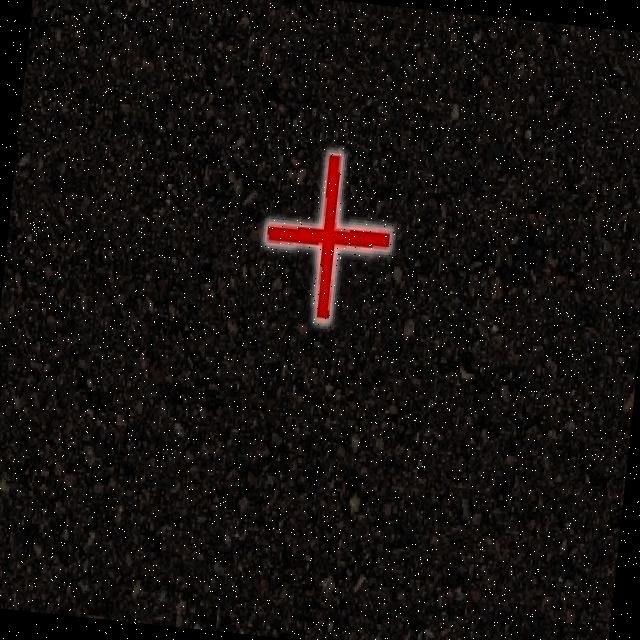x_marker: (258, 148, 397, 325)
